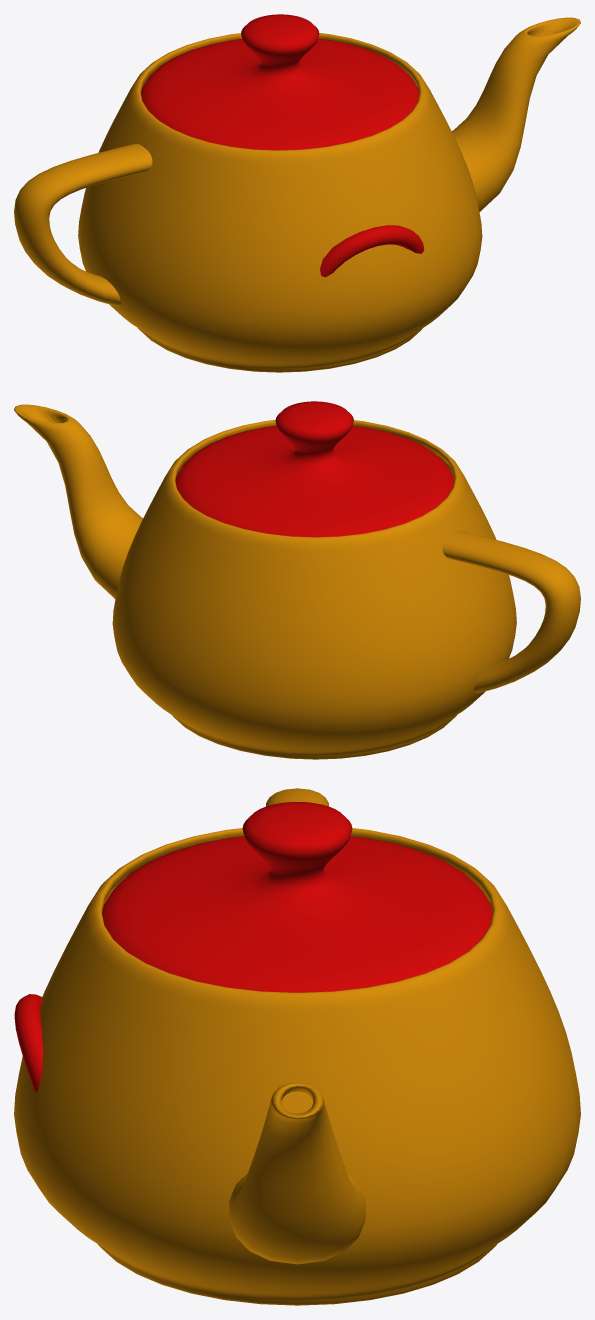
File: asimetrico.glb
3 views of the same model, one above another, from view 1: azimuth 30°, elevation 25°; view 2: azimuth 150°, elevation 25°; view 3: azimuth 270°, elevation 25° (orthographic). The views are drawn at different scales.
Visible parts, largest first — view 1: Teapot001, Torus001; view 2: Teapot001; view 3: Teapot001, Torus001.
Part boxes in pixels (x1,y1,x2,y2): Teapot001: (14, 14, 580, 372); Torus001: (320, 225, 424, 277); Teapot001: (14, 401, 580, 759); Teapot001: (14, 788, 580, 1305); Torus001: (14, 994, 43, 1092).
Size of the model in its own units: 1.63 by 0.8163 by 1.02.
